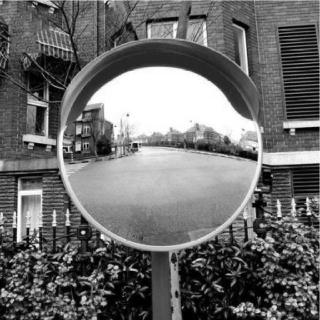other: (111, 77, 201, 121)
